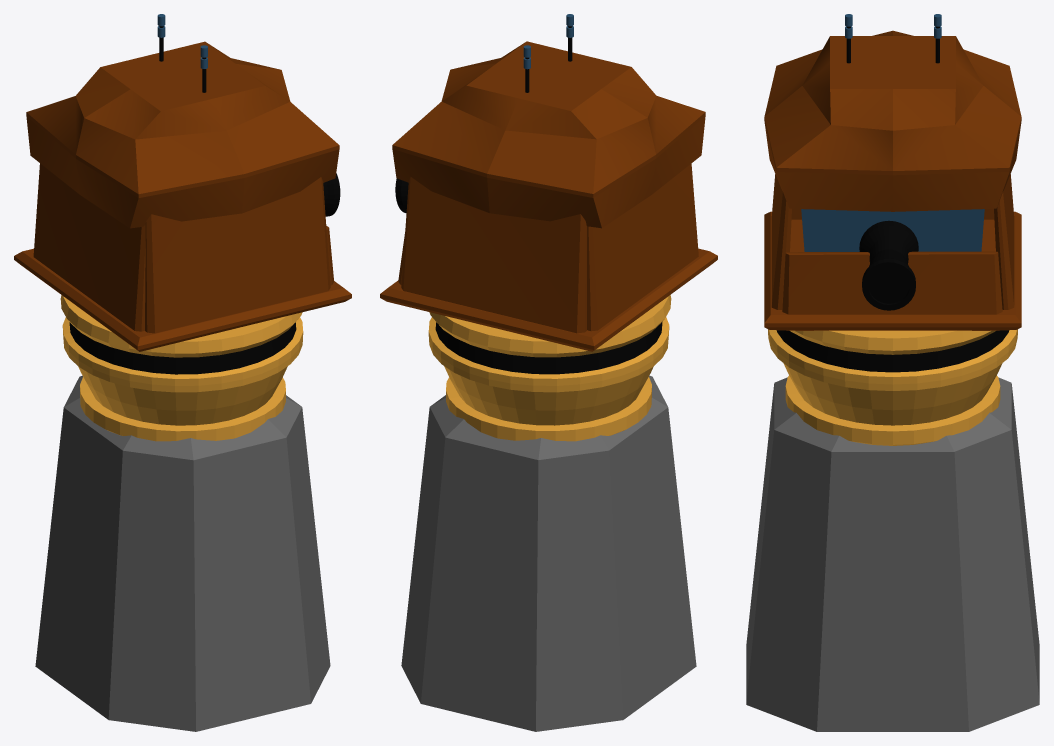
Rendered from Turret.dae.
3 views of the same model, side by side, from view 1: azimuth 30°, elevation 25°; view 2: azimuth 150°, elevation 25°; view 3: azimuth 270°, elevation 25° (orthographic). The views are drawn at different scales.
Parts seen in each view (by area): view 1: korpus, pol.001, Cylinder.001, pol.002, pol.004, pol, Cylinder; view 2: korpus, pol.001, Cylinder.001, pol.003, pol.004, pol; view 3: korpus, pol.001, Cylinder.001, pol.005, pol, Cylinder, pol.003, pol.002.
Part boxes in pixels (left/top/right/bottom): korpus: left=35, top=375, right=330, bottom=731; pol.001: left=26, top=41, right=339, bottom=228; Cylinder.001: left=60, top=295, right=303, bottom=441; pol.002: left=145, top=177, right=330, bottom=333; pol.004: left=33, top=163, right=145, bottom=331; pol: left=14, top=248, right=351, bottom=351; Cylinder: left=323, top=173, right=340, bottom=216; korpus: left=401, top=375, right=696, bottom=731; pol.001: left=392, top=41, right=705, bottom=228; Cylinder.001: left=428, top=295, right=671, bottom=441; pol.003: left=401, top=177, right=586, bottom=333; pol.004: left=587, top=163, right=698, bottom=331; pol: left=380, top=248, right=717, bottom=351; korpus: left=746, top=377, right=1039, bottom=731; pol.001: left=764, top=30, right=1021, bottom=251; Cylinder.001: left=768, top=329, right=1017, bottom=445; pol.005: left=782, top=251, right=1002, bottom=314; pol: left=764, top=211, right=1021, bottom=330; Cylinder: left=859, top=220, right=918, bottom=310; pol.003: left=994, top=174, right=1014, bottom=309; pol.002: left=771, top=174, right=791, bottom=309.
Size of the model in its own units: 6.92 by 6.61 by 16.41.
